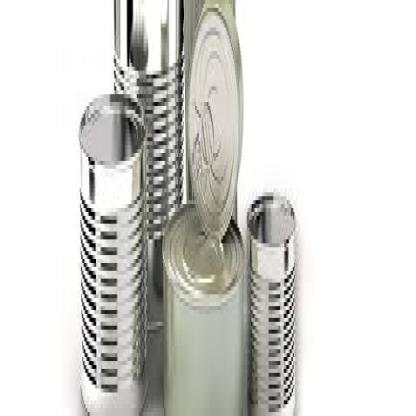METAL: (113, 0, 184, 338), (78, 90, 146, 412), (161, 200, 244, 412), (185, 0, 243, 236), (246, 185, 295, 412)
